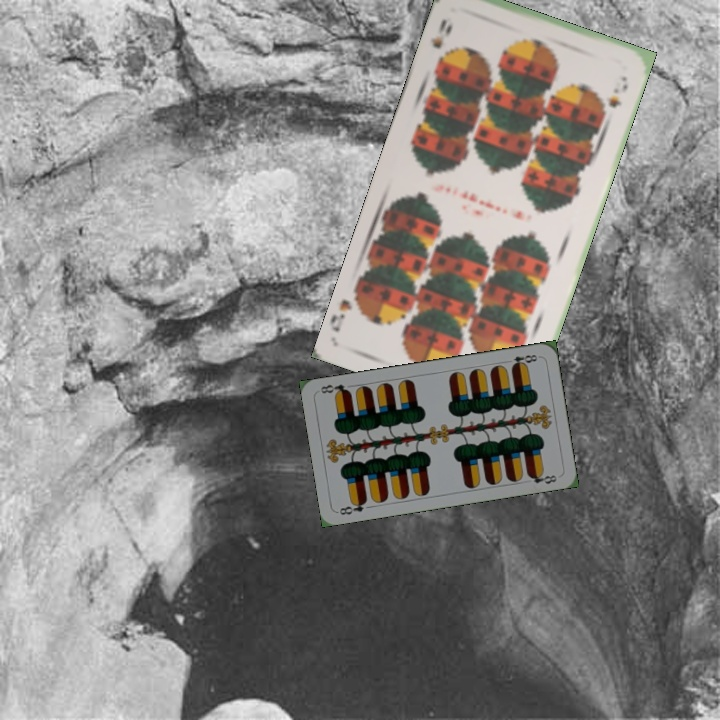E8: (335, 496, 370, 518), (508, 350, 542, 370)
S9: (427, 15, 455, 66)
